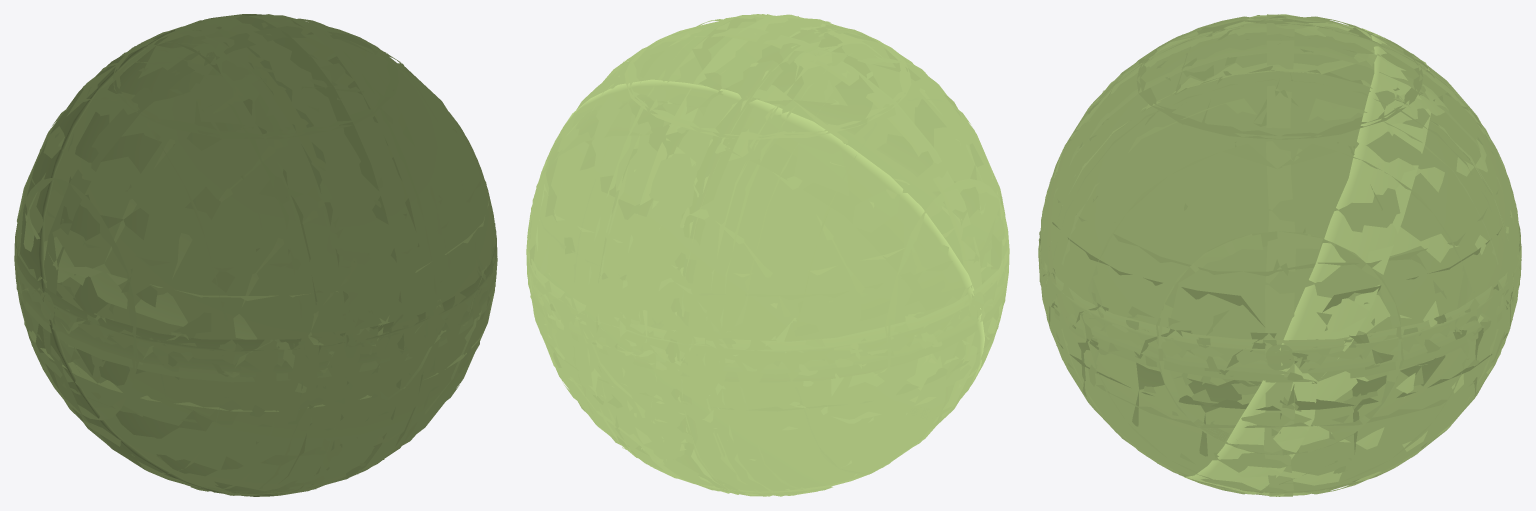
Rendered from sys-sd-frp_piping.glb.
3 views of the same model, side by side, from view 1: azimuth 30°, elevation 25°; view 2: azimuth 150°, elevation 25°; view 3: azimuth 270°, elevation 25° (orthographic).
Parts seen in each view (by area): view 1: TS-sd-frp_piping-1400, TS-sd-frp_piping-1400-v; view 2: TS-sd-frp_piping-1400, TS-sd-frp_piping-1400-v; view 3: TS-sd-frp_piping-1400, TS-sd-frp_piping-1400-v.
Part boxes in pixels (x1=…): TS-sd-frp_piping-1400: x1=14, y1=14, x2=497, y2=496; TS-sd-frp_piping-1400-v: x1=17, y1=18, x2=497, y2=495; TS-sd-frp_piping-1400: x1=526, y1=14, x2=1009, y2=496; TS-sd-frp_piping-1400-v: x1=544, y1=14, x2=992, y2=495; TS-sd-frp_piping-1400: x1=1038, y1=14, x2=1521, y2=496; TS-sd-frp_piping-1400-v: x1=1038, y1=15, x2=1521, y2=492.
Bounding box in the file's own units: 2 × 2 × 2.
